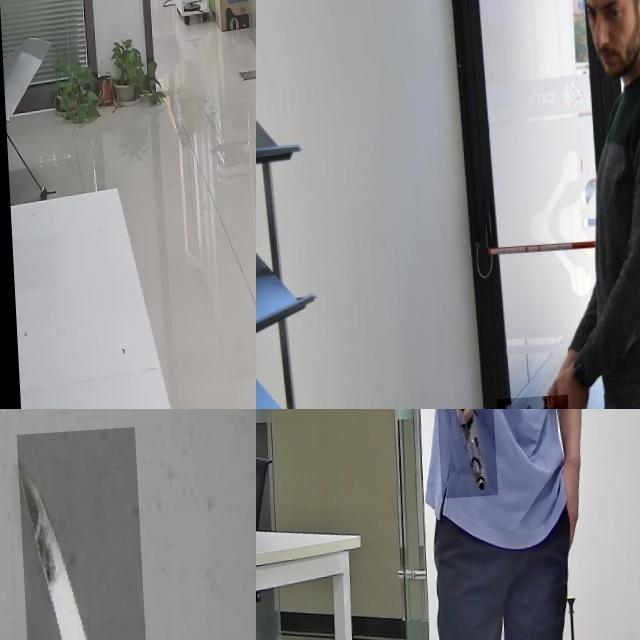-: (14, 432, 152, 640)
gun-knife-thesis - v11 Yolov5 augmented: (431, 409, 494, 502)
